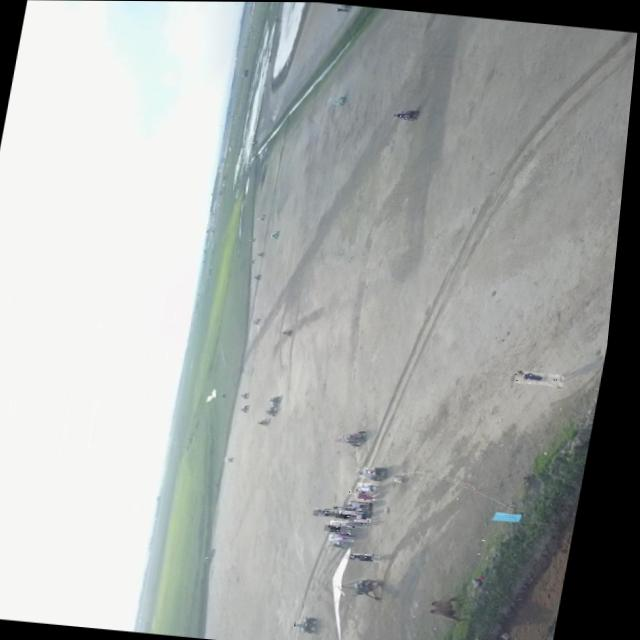Person: (521, 369, 572, 385), (362, 551, 392, 560), (364, 466, 386, 478), (348, 508, 373, 518), (358, 507, 383, 516), (358, 500, 383, 509), (343, 529, 367, 538), (339, 532, 365, 540), (353, 500, 379, 508), (358, 487, 383, 495), (356, 552, 384, 559), (342, 504, 366, 512), (323, 509, 349, 516), (356, 519, 378, 527), (365, 491, 386, 499), (354, 510, 377, 517), (340, 519, 366, 525), (359, 499, 382, 505), (324, 506, 347, 512), (365, 480, 382, 488), (345, 512, 367, 518), (340, 526, 361, 532), (370, 465, 383, 474), (335, 523, 351, 530), (371, 483, 386, 490), (364, 515, 382, 520), (351, 505, 372, 509), (336, 6, 351, 11), (307, 619, 319, 625), (395, 111, 407, 116), (232, 455, 241, 460), (266, 419, 272, 423)
